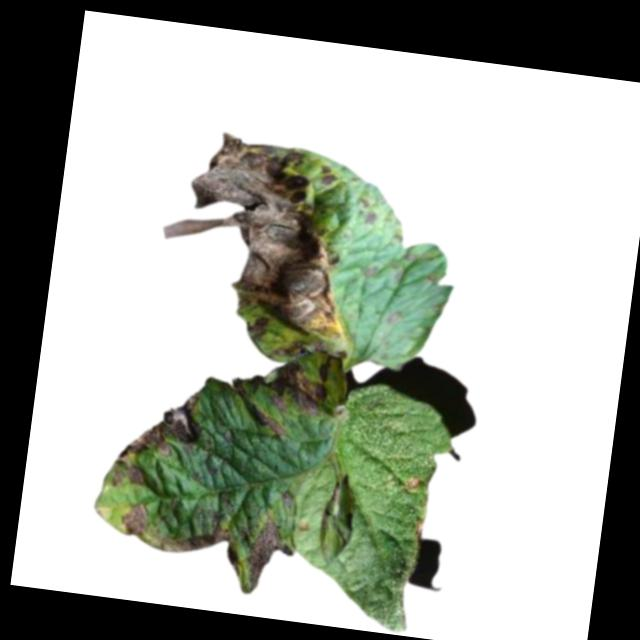Early_blight: (146, 126, 360, 362), (106, 381, 210, 500), (228, 352, 334, 446), (156, 515, 248, 574), (243, 514, 297, 595), (117, 498, 151, 540), (402, 475, 424, 494), (414, 519, 426, 540), (280, 490, 295, 506)
